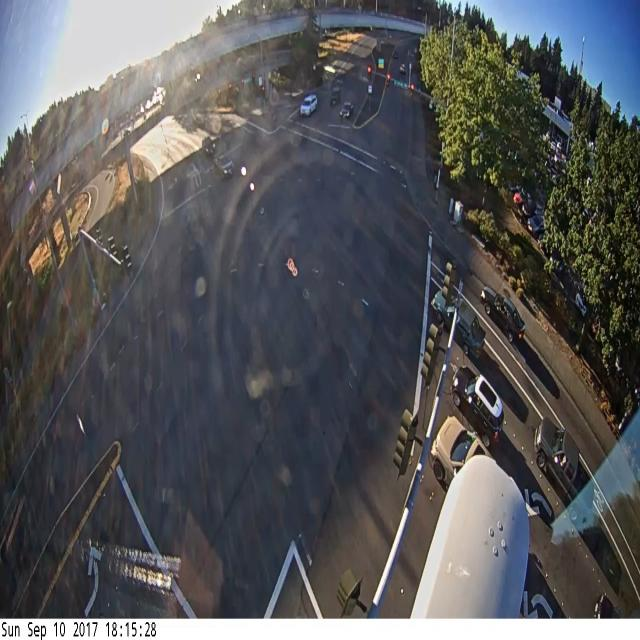car: (430, 416, 489, 487), (452, 368, 504, 447), (534, 417, 579, 496), (481, 286, 524, 343), (455, 300, 485, 356), (594, 594, 622, 618), (214, 154, 233, 177), (527, 215, 544, 240), (300, 95, 318, 116), (574, 292, 588, 318), (202, 136, 215, 155), (340, 103, 353, 119), (330, 85, 340, 105), (400, 64, 405, 74), (393, 50, 398, 59)
large car: (393, 50, 398, 59)
